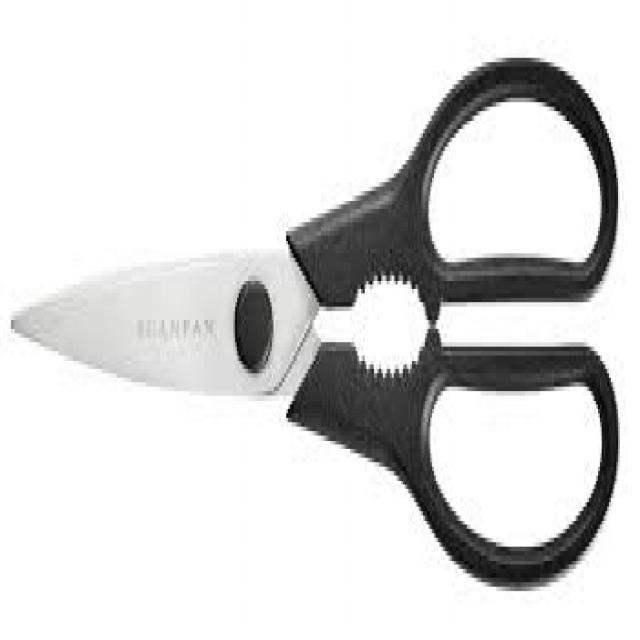scissor: (10, 46, 622, 595)
